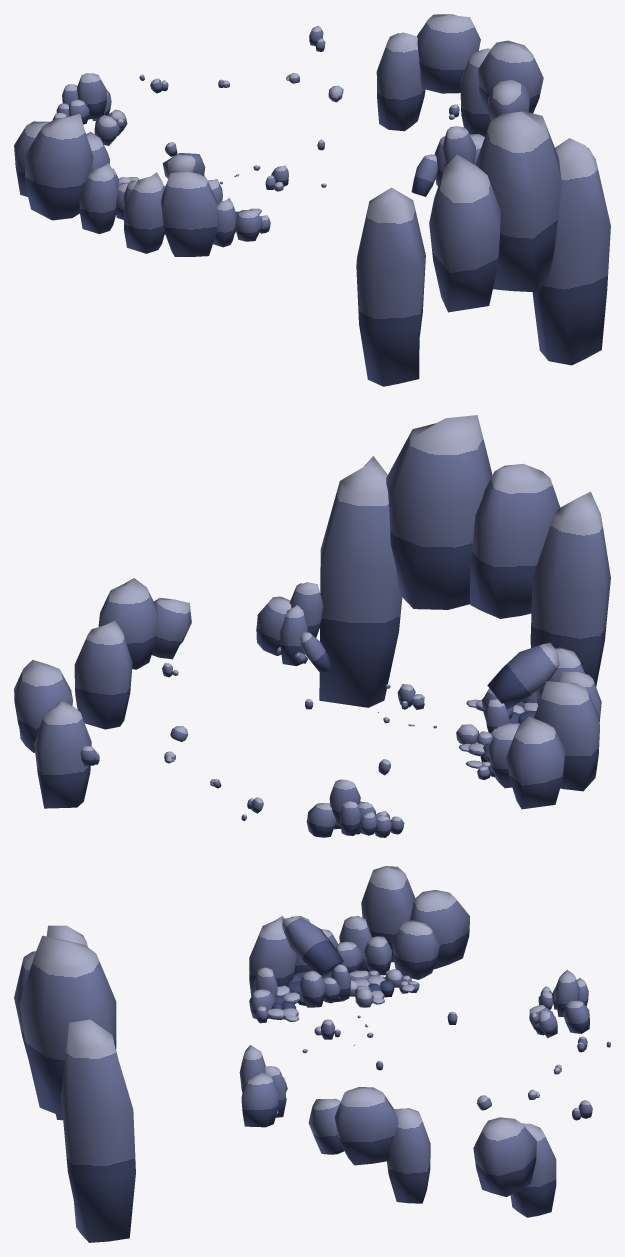
File: map-rock.glb
3 renders of one model, top to bottom at view 1: azimuth 30°, elevation 25°; view 2: azimuth 150°, elevation 25°; view 3: azimuth 270°, elevation 25°, orthographic. The views are drawn at different scales.
Parts seen in each view (by area): view 1: Rock01.063; view 2: Rock01.063; view 3: Rock01.063.
Part boxes in pixels (box(x1,y1,x2,y2)): Rock01.063: box(14, 14, 610, 386); Rock01.063: box(14, 415, 610, 837); Rock01.063: box(14, 866, 610, 1242).
Bounding box in the file's own units: 238 × 122 × 256.
Materials: 1 (1 with a texture image).
